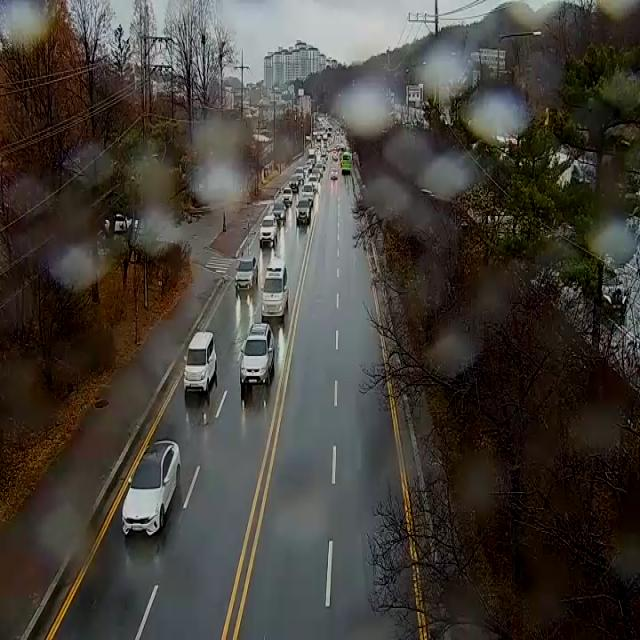Bus: (341, 152, 351, 171)
Car: (122, 441, 181, 536), (240, 323, 274, 384), (184, 332, 216, 392), (262, 259, 288, 316), (235, 259, 258, 290), (105, 213, 138, 232), (260, 216, 278, 241), (296, 199, 310, 220), (271, 202, 286, 219), (302, 183, 315, 201), (282, 188, 293, 205), (308, 176, 318, 192), (296, 166, 304, 181), (289, 178, 298, 189), (330, 168, 338, 180), (332, 154, 338, 162)
